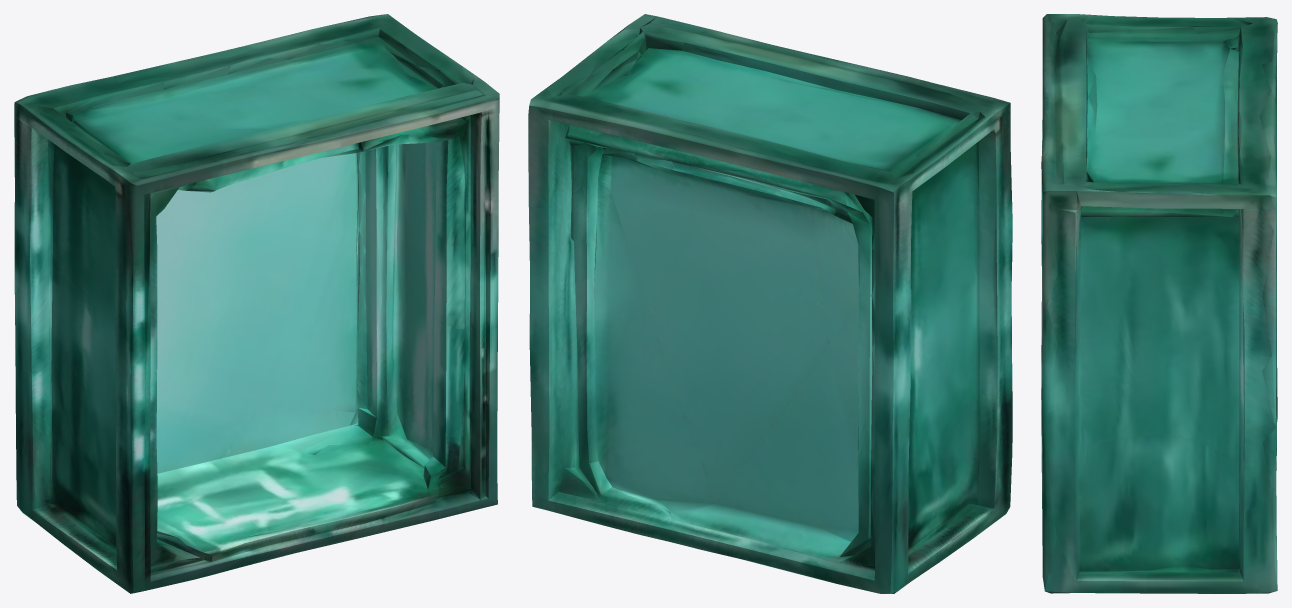
Rendered from m2CoreGateV2.glb.
The picture shows the model from 3 angles, left to right: view 1: azimuth 30°, elevation 25°; view 2: azimuth 150°, elevation 25°; view 3: azimuth 270°, elevation 25°; orthographic projection.
Parts seen in each view (by area): view 1: model; view 2: model; view 3: model.
Boxes of the visible parts, box(x1,y1,x2,y2) form: model: box(14, 14, 499, 593); model: box(528, 14, 1012, 593); model: box(1041, 14, 1277, 593).
Size of the model in its own units: 1.78 by 1.91 by 1.
Materials: 1 (1 with a texture image).
